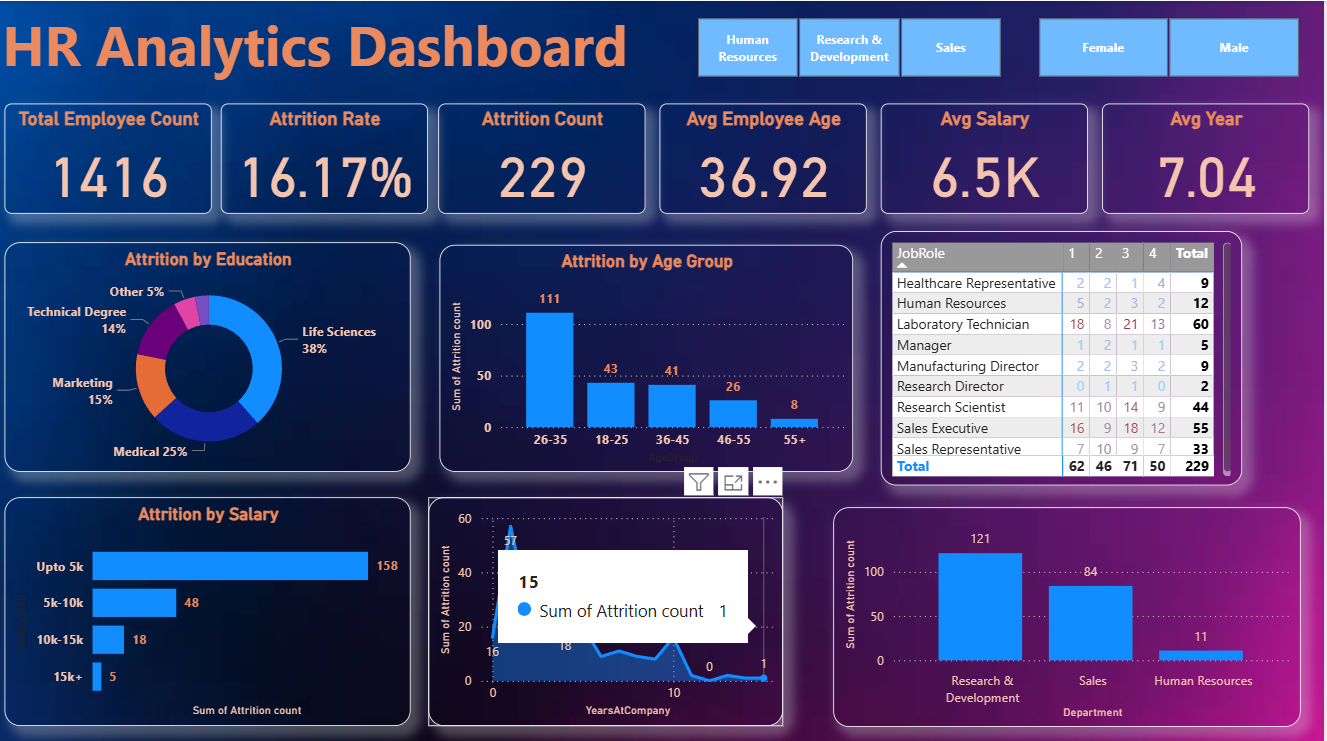

Layout of this report page (visuals, bound fields, positions):
{"tool":"powerbi","page":{"name":"Page 1","canvas":[1280,720],"ordinal":0},"visuals":[{"type":"card","title":"Total Employee Count","fields":{"Values":["Sum(HR_Analytics.EmployeeCount)"]},"box":[7,99,200,106],"z":0},{"type":"card","title":"Attrition Count","fields":{"Values":["Sum(HR_Analytics.Attrition count)"]},"box":[426,99,200,106],"z":1000},{"type":"card","title":"Avg Employee Age","fields":{"Values":["Avg(HR_Analytics.Age)"]},"box":[640,99,200,106],"z":2000},{"type":"card","title":"Avg Salary","fields":{"Values":["Avg(HR_Analytics.MonthlyIncome)"]},"box":[853,99,200,106],"z":3000},{"type":"card","title":"Attrition Rate","fields":{"Values":["HR_Analytics.Attrition Rate"]},"box":[216,99,200,106],"z":4000},{"type":"card","title":"Avg Year","fields":{"Values":["Avg(HR_Analytics.YearsAtCompany)"]},"box":[1067,99,200,106],"z":5000},{"type":"donutChart","title":"Attrition by Education","fields":{"Category":["HR_Analytics.EducationField"],"Y":["Sum(HR_Analytics.Attrition count)"]},"box":[7.2,232.8,392.1,222],"z":6000},{"type":"clusteredColumnChart","title":"Attrition by Age Group","fields":{"Category":["HR_Analytics.AgeGroup"],"Y":["Sum(HR_Analytics.Attrition count)"]},"box":[427.1,235.3,399.3,219.6],"z":7000},{"type":"clusteredBarChart","title":"Attrition by Salary","fields":{"Category":["HR_Analytics.SalarySlab"],"Y":["Sum(HR_Analytics.Attrition count)"]},"box":[7.2,479,392.1,220.8],"z":8000},{"type":"pivotTable","title":"Attrition by Salary","fields":{"Rows":["HR_Analytics.JobRole"],"Columns":["HR_Analytics.JobSatisfaction"],"Values":["Sum(HR_Analytics.Attrition count)"]},"box":[853.5,222.3,348.5,245.6],"z":9000},{"type":"areaChart","fields":{"Y":["Sum(HR_Analytics.Attrition count)"],"Category":["HR_Analytics.YearsAtCompany"]},"box":[416.2,479,342.6,220.8],"z":10000},{"type":"clusteredColumnChart","fields":{"Category":["HR_Analytics.Department"],"Y":["Sum(HR_Analytics.Attrition count)"]},"box":[807.1,488.6,451.2,212.3],"z":11000},{"type":"textbox","box":[0,0,639.4,88.1],"z":12000},{"type":"slicer","fields":{"Values":["HR_Analytics.Department"]},"box":[650.3,9.7,342.6,70],"z":12001},{"type":"slicer","fields":{"Values":["HR_Analytics.Gender"]},"box":[979.6,9.7,300.4,70],"z":12002}]}

Visuals, with their boxes in screenshot pixels (x1, y1, x2, y2), scaled from the page's 1280x720 canvas onto the 1327x741 screenshot:
"Total Employee Count" card: [x1=7, y1=102, x2=215, y2=211]
"Attrition Count" card: [x1=442, y1=102, x2=649, y2=211]
"Avg Employee Age" card: [x1=664, y1=102, x2=871, y2=211]
"Avg Salary" card: [x1=884, y1=102, x2=1092, y2=211]
"Attrition Rate" card: [x1=224, y1=102, x2=431, y2=211]
"Avg Year" card: [x1=1106, y1=102, x2=1314, y2=211]
"Attrition by Education" donutChart: [x1=7, y1=240, x2=414, y2=468]
"Attrition by Age Group" clusteredColumnChart: [x1=443, y1=242, x2=857, y2=468]
"Attrition by Salary" clusteredBarChart: [x1=7, y1=493, x2=414, y2=720]
"Attrition by Salary" pivotTable: [x1=885, y1=229, x2=1246, y2=482]
areaChart - Sum(HR_Analytics.Attrition count) x HR_Analytics.YearsAtCompany: [x1=431, y1=493, x2=787, y2=720]
clusteredColumnChart - HR_Analytics.Department x Sum(HR_Analytics.Attrition count): [x1=837, y1=503, x2=1305, y2=721]
textbox: [x1=0, y1=0, x2=663, y2=91]
slicer - HR_Analytics.Department: [x1=674, y1=10, x2=1029, y2=82]
slicer - HR_Analytics.Gender: [x1=1016, y1=10, x2=1326, y2=82]
